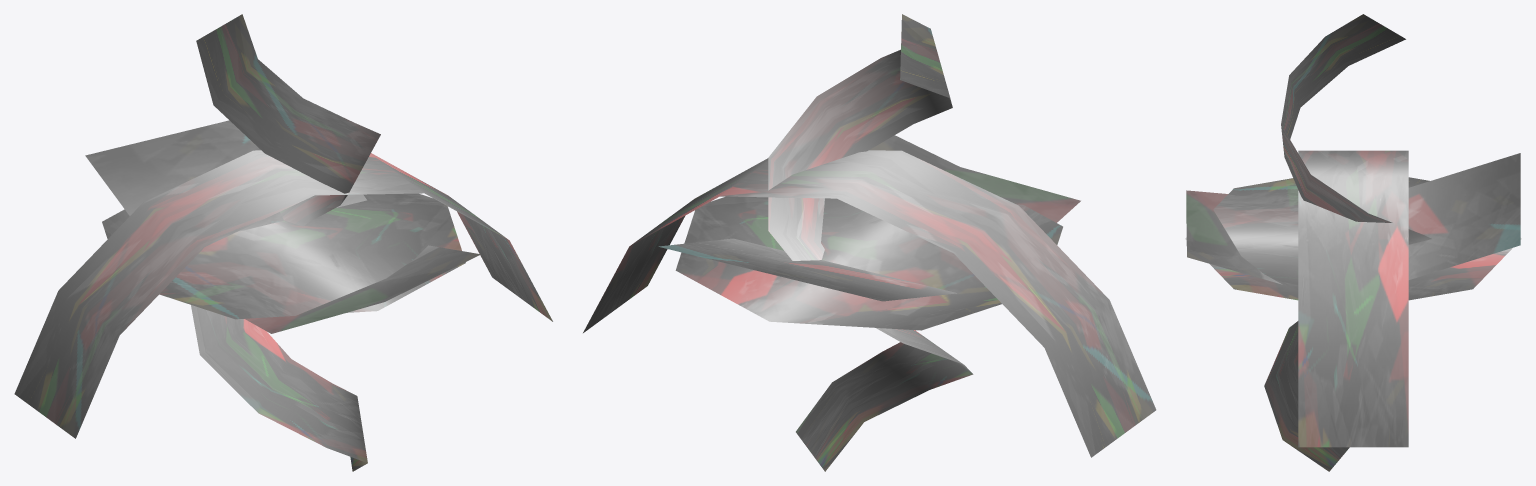
Rendered from M_Mesh_confetti_01.fbx.
3 views of the same model, side by side, from view 1: azimuth 30°, elevation 25°; view 2: azimuth 150°, elevation 25°; view 3: azimuth 270°, elevation 25° (orthographic). The views are drawn at different scales.
Visible parts, largest first — view 1: M_Mesh_confetti_01-4, M_Mesh_confetti_01-2, M_Mesh_confetti_01-3, M_Mesh_confetti_01-1; view 2: M_Mesh_confetti_01-4, M_Mesh_confetti_01-2, M_Mesh_confetti_01-3, M_Mesh_confetti_01-1; view 3: M_Mesh_confetti_01-4, M_Mesh_confetti_01-1, M_Mesh_confetti_01-2, M_Mesh_confetti_01-3.
Part boxes in pixels (box(x1,y1,x2,y2)): M_Mesh_confetti_01-4: box(14, 150, 552, 438); M_Mesh_confetti_01-2: box(191, 14, 380, 471); M_Mesh_confetti_01-3: box(102, 193, 465, 319); M_Mesh_confetti_01-1: box(85, 120, 480, 333); M_Mesh_confetti_01-4: box(583, 150, 1156, 457); M_Mesh_confetti_01-2: box(768, 14, 973, 471); M_Mesh_confetti_01-3: box(675, 196, 1062, 330); M_Mesh_confetti_01-1: box(658, 135, 1080, 301); M_Mesh_confetti_01-4: box(1298, 150, 1408, 447); M_Mesh_confetti_01-1: box(1186, 153, 1520, 284); M_Mesh_confetti_01-2: box(1264, 14, 1431, 471); M_Mesh_confetti_01-3: box(1185, 177, 1521, 300).
Size of the model in its own units: 14.69 by 13.7 by 10.
